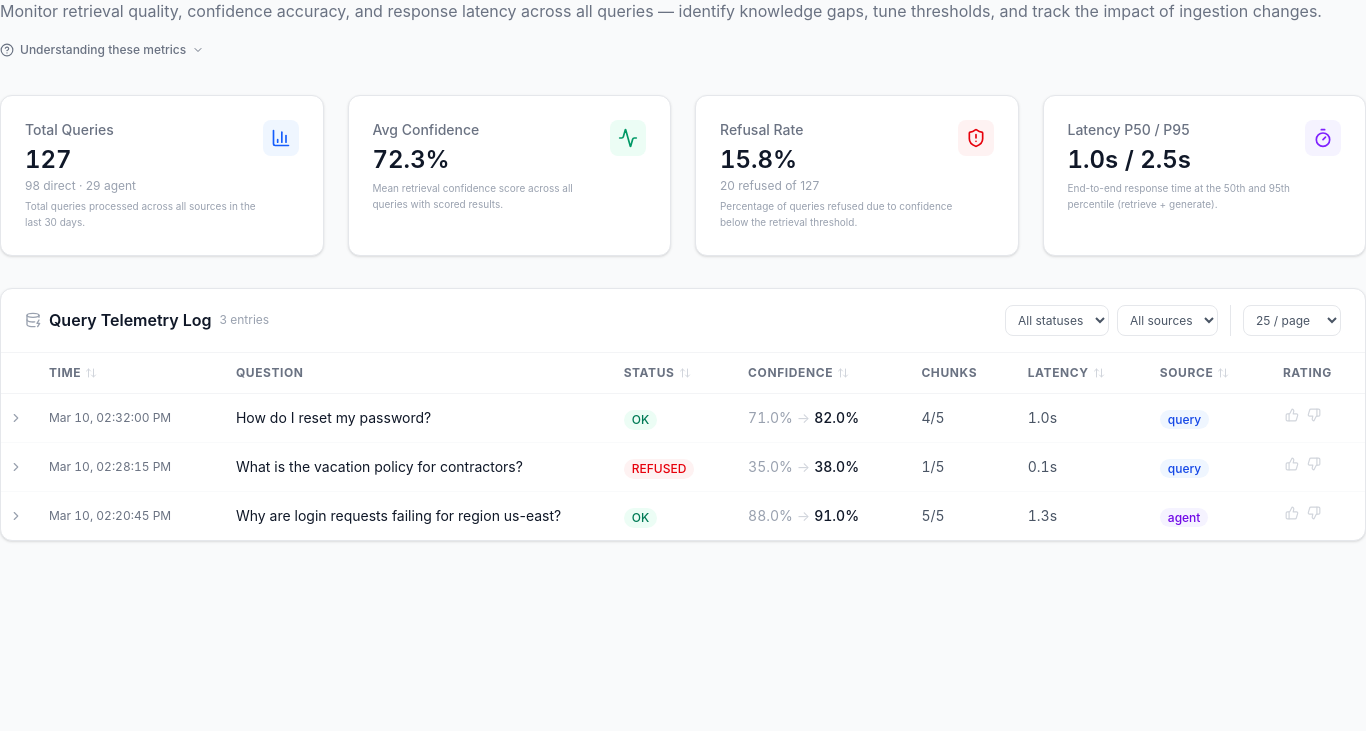
Test: EvaluationQueries — expandable rows › only shows one expanded row at a time
Click the text "How do I reset my password?". click: (414, 418)
box: [220,393,608,442]
(page scrolled)
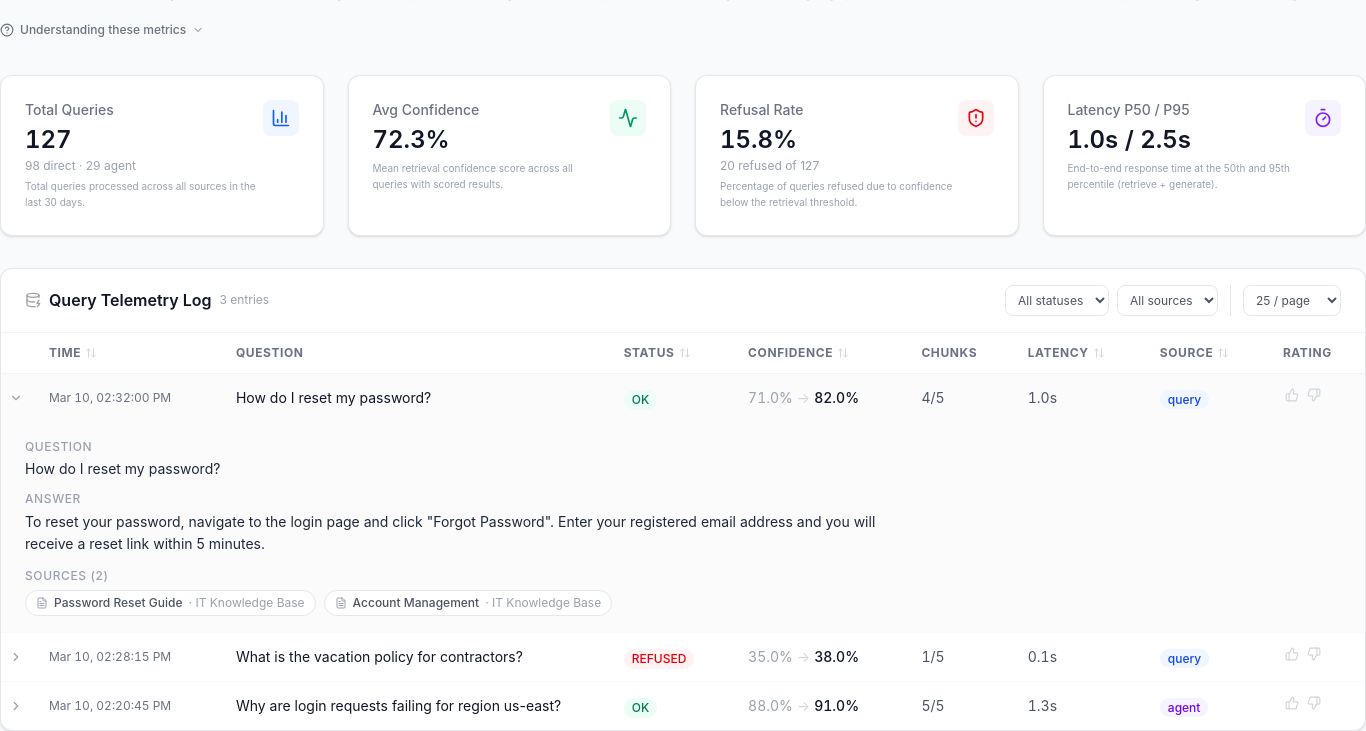
Now the text "navigate to the login page" is shown, box [25,512,879,552]
Click the text "Why are login requests failing for region us-east?". click: (414, 706)
box: [220,682,608,730]
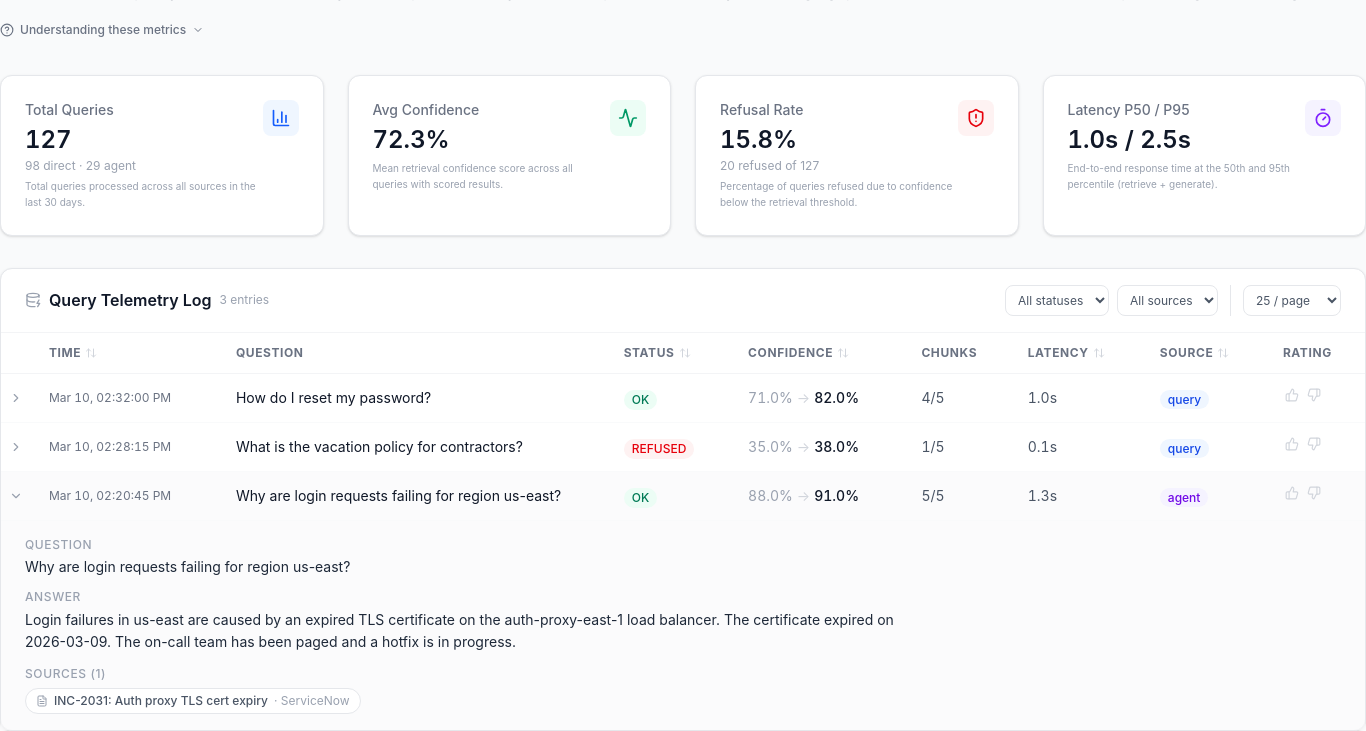
Now the text "expired TLS certificate" is shown, box [25,610,898,650]
Now the text "navigate to the login page" is gone
